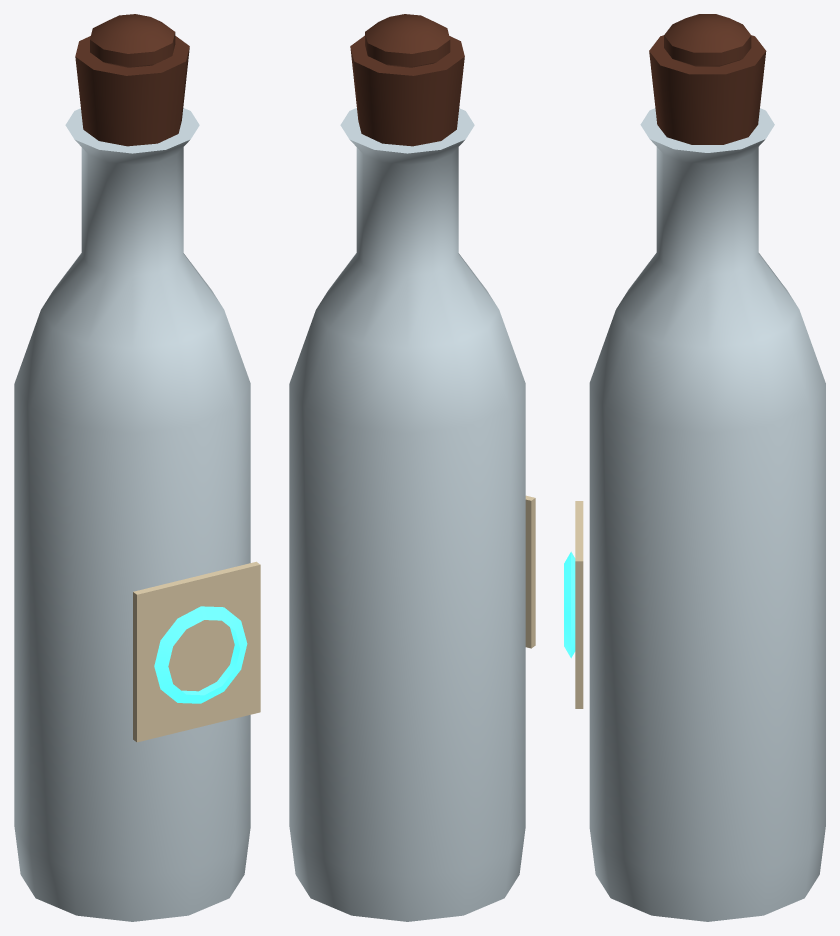
The model's file is Potion_Bottle_Tall.fbx.
The picture shows the model from 3 angles, left to right: view 1: azimuth 30°, elevation 25°; view 2: azimuth 150°, elevation 25°; view 3: azimuth 270°, elevation 25°; orthographic projection.
Visible parts, largest first — view 1: Potion_Bottle_Tall_Glass, Potion_Bottle_Tall_Cap; view 2: Potion_Bottle_Tall_Glass, Potion_Bottle_Tall_Cap; view 3: Potion_Bottle_Tall_Glass, Potion_Bottle_Tall_Cap.
Boxes of the visible parts, <box> form: Potion_Bottle_Tall_Glass: <box>14,108,250,921</box>; Potion_Bottle_Tall_Cap: <box>75,14,260,742</box>; Potion_Bottle_Tall_Glass: <box>289,108,525,921</box>; Potion_Bottle_Tall_Cap: <box>350,14,535,648</box>; Potion_Bottle_Tall_Glass: <box>589,108,825,921</box>; Potion_Bottle_Tall_Cap: <box>564,14,766,708</box>.
Size of the model in its own units: 0.116 by 0.4623 by 0.1285.
